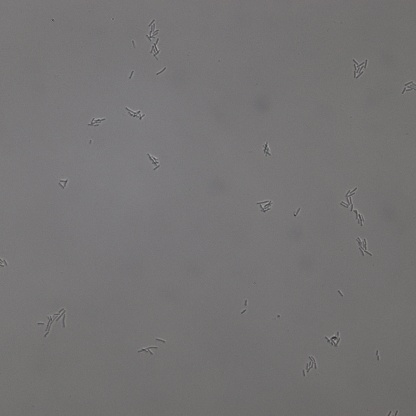R(colony): (340, 188, 364, 226), (37, 309, 67, 338), (354, 237, 373, 258), (302, 355, 318, 377), (352, 57, 368, 78), (125, 106, 146, 121), (325, 331, 342, 348), (145, 19, 158, 41), (150, 37, 162, 60), (257, 199, 274, 213), (147, 153, 160, 170), (138, 346, 158, 357), (402, 81, 416, 95), (87, 117, 104, 128), (262, 141, 272, 158), (57, 177, 68, 188)
